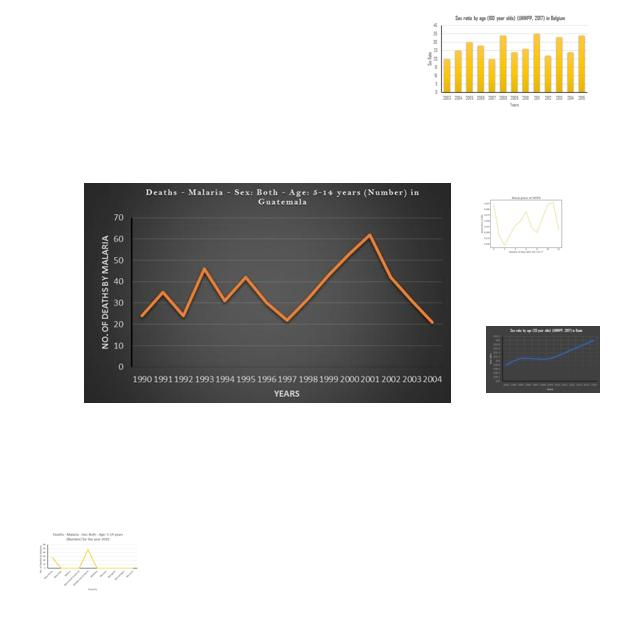Graph: (84, 183, 451, 403), (424, 12, 590, 109), (486, 326, 600, 393), (479, 189, 571, 258), (37, 531, 139, 592)
